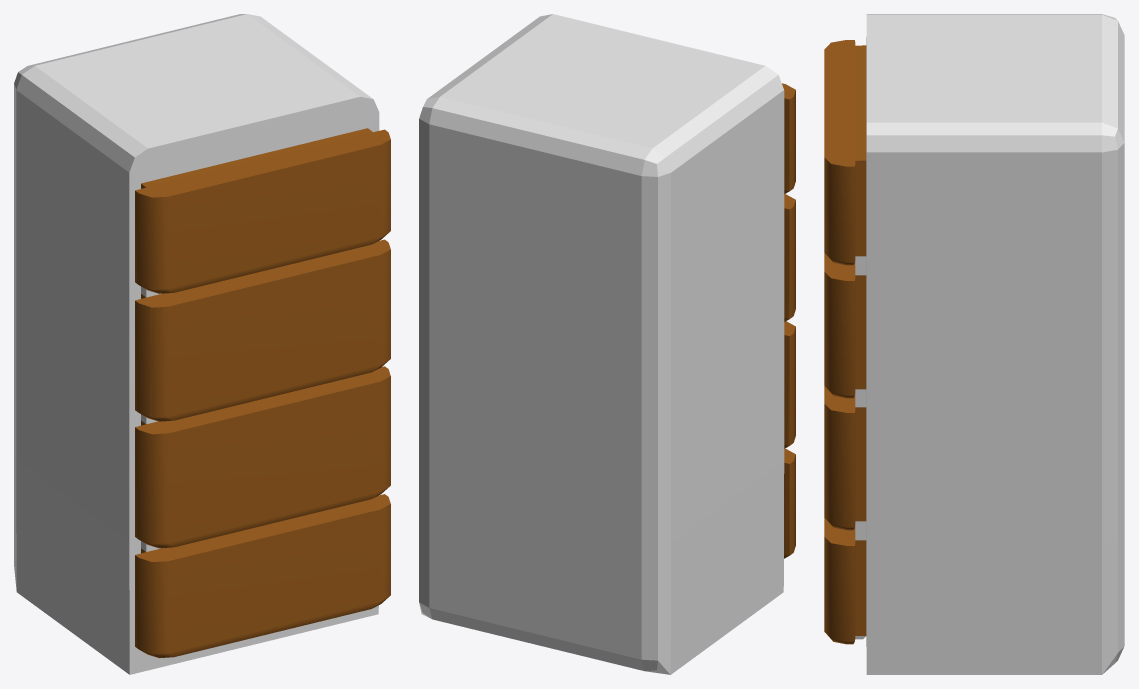
The model's file is Y2BoxShelf.fbx.
3 renders of one model, left to right at view 1: azimuth 30°, elevation 25°; view 2: azimuth 150°, elevation 25°; view 3: azimuth 270°, elevation 25°, orthographic. The views are drawn at different scales.
Parts seen in each view (by area): view 1: tana; view 2: tana; view 3: tana.
Boxes of the visible parts, box(x1,y1,x2,y2) form: tana: box(14, 14, 390, 674); tana: box(419, 14, 795, 674); tana: box(824, 14, 1124, 674).
Size of the model in its own units: 1 by 2 by 1.
1 material, 1 textured.
